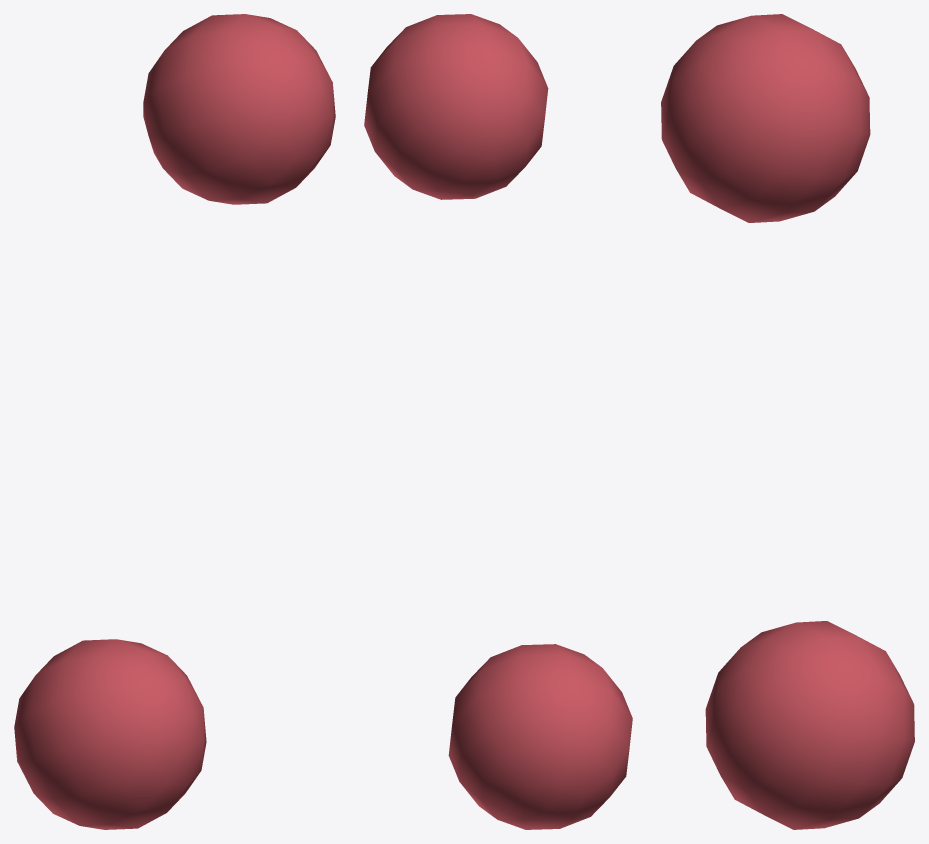
File: linfatico-thyroid-nodes-l.glb
3 renders of one model, left to right at view 1: azimuth 30°, elevation 25°; view 2: azimuth 150°, elevation 25°; view 3: azimuth 270°, elevation 25°, orthographic. The views are drawn at different scales.
Parts seen in each view (by area): view 1: Thyroid nodes.l; view 2: Thyroid nodes.l; view 3: Thyroid nodes.l.
Part boxes in pixels (x1,y1,x2,y2): Thyroid nodes.l: (14, 14, 335, 829); Thyroid nodes.l: (364, 14, 632, 829); Thyroid nodes.l: (661, 14, 914, 829).
Bounding box in the file's own units: 0.00422 × 0.0115 × 0.00311.
